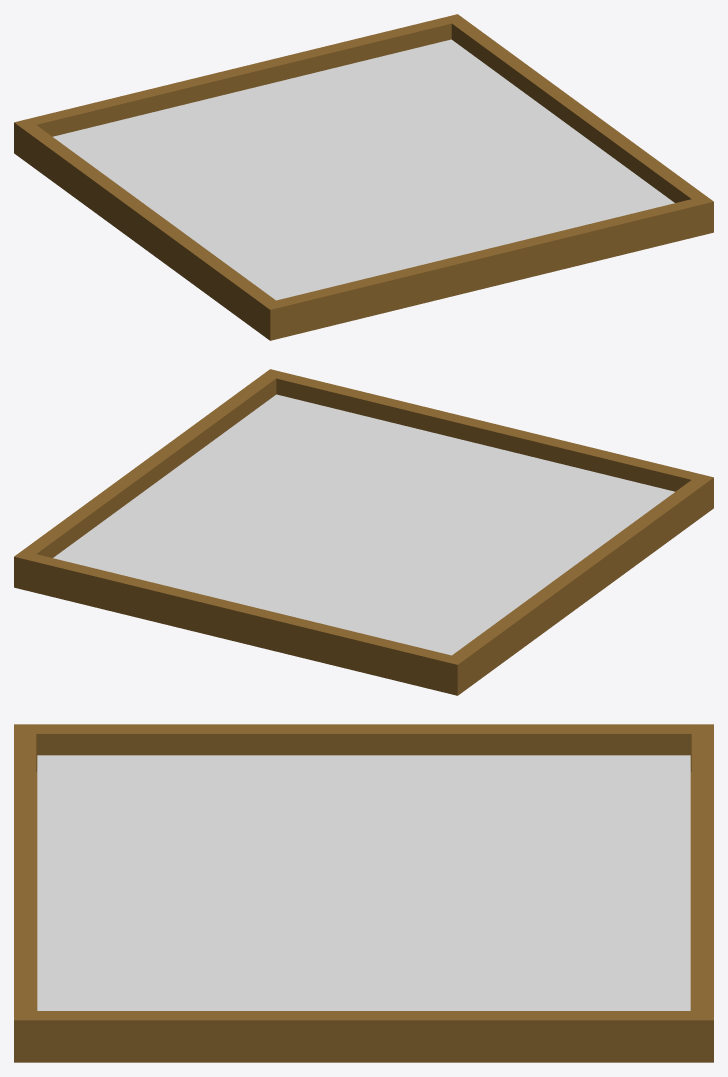
File: frame3x3.fbx
3 views of the same model, one above another, from view 1: azimuth 30°, elevation 25°; view 2: azimuth 150°, elevation 25°; view 3: azimuth 270°, elevation 25° (orthographic). The views are drawn at different scales.
Parts seen in each view (by area): view 1: canvas3x3, frame3x3; view 2: canvas3x3, frame3x3; view 3: canvas3x3, frame3x3.
Part boxes in pixels (x1,y1,x2,y2): canvas3x3: (53,39,674,300); frame3x3: (14,14,713,340); canvas3x3: (53,394,674,655); frame3x3: (14,369,713,695); canvas3x3: (37,755,690,1010); frame3x3: (14,724,713,1062).
Size of the model in its own units: 300 by 20 by 300.
